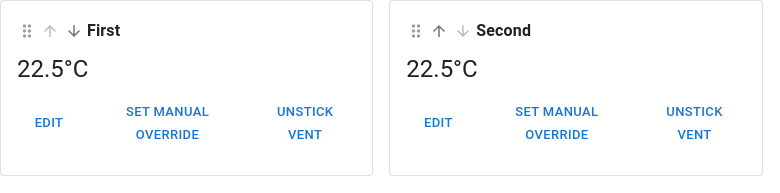
Scenario: ZoneGrid › moving a zone down persists sequential display_order for both affected zones
Step 1. Click the button named "Move First down" → (74,31), box left=63, top=20, right=85, bottom=42
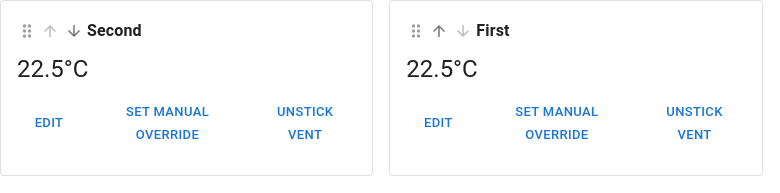
Expected: the headings read "Second", "First", in this order, left=87, top=17, right=142, bottom=45; left=476, top=17, right=510, bottom=45
